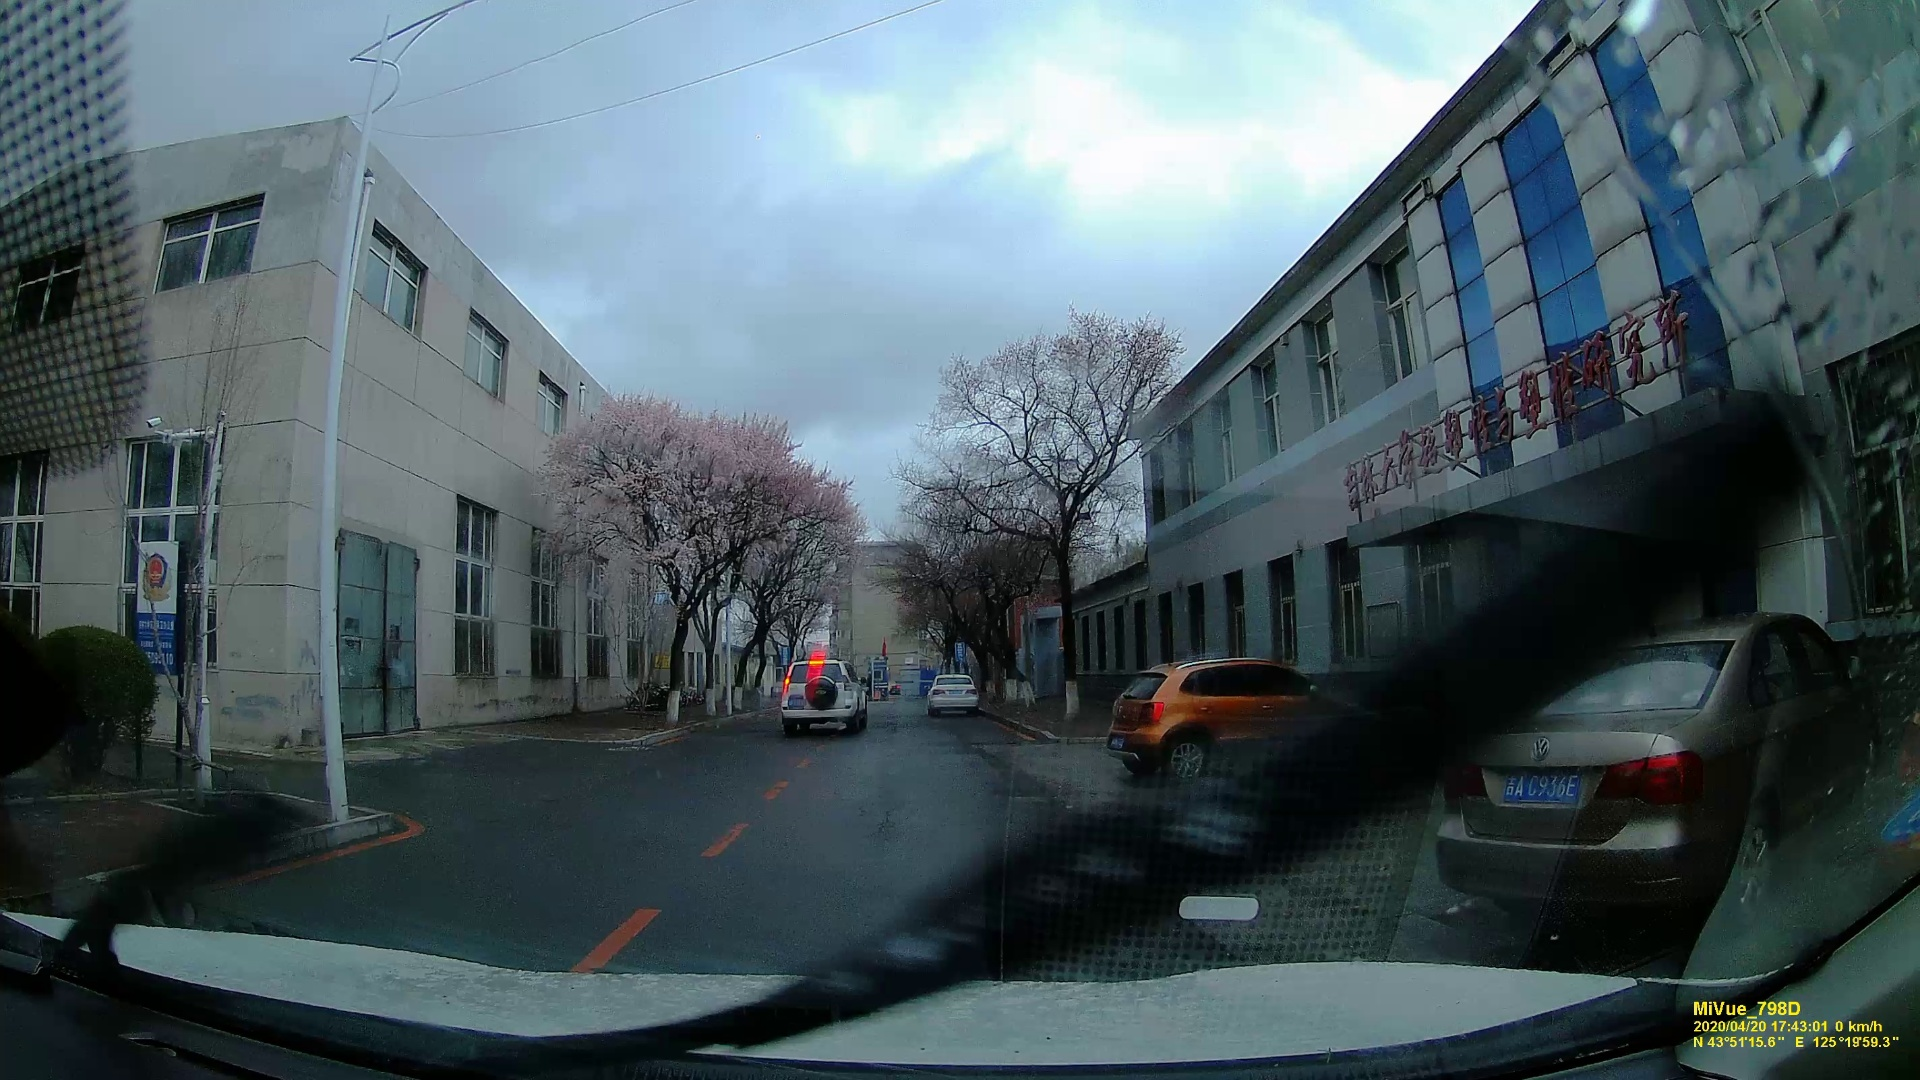traffic_sign: (135, 541, 183, 669)
vehicle: (1419, 616, 1849, 906), (1100, 658, 1342, 779), (775, 655, 872, 736), (924, 675, 978, 716)
